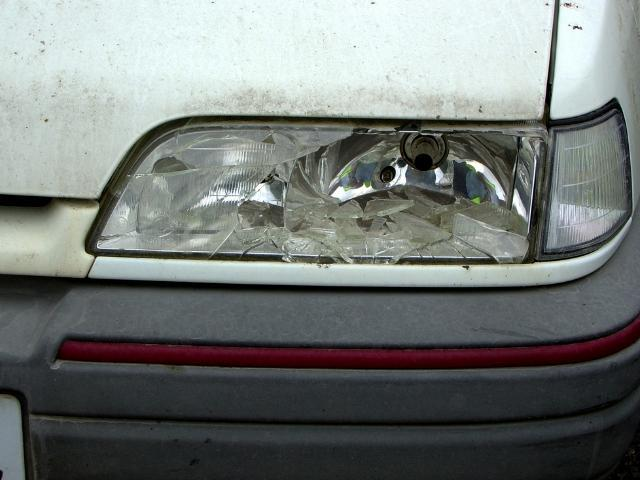Light: (96, 115, 542, 260)
